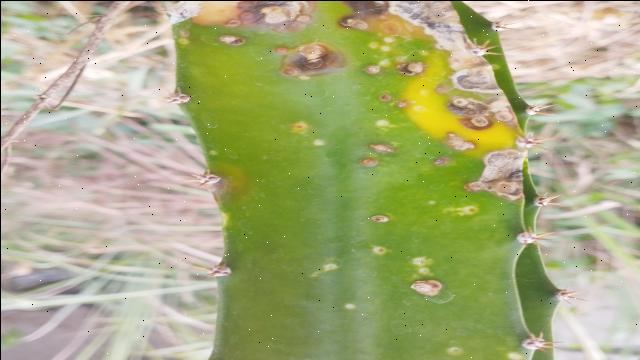stemcanker: (409, 254, 438, 279), (365, 209, 394, 231), (286, 117, 317, 134), (368, 36, 397, 54), (354, 155, 382, 172), (458, 202, 483, 221), (360, 62, 386, 80), (370, 240, 394, 258), (443, 344, 470, 358), (338, 298, 361, 314), (430, 154, 453, 169), (372, 116, 394, 130), (375, 89, 393, 104), (309, 137, 329, 148)
